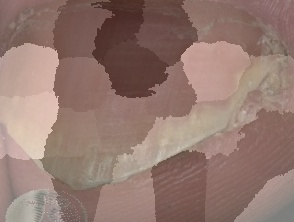Nail_psoriasis: (0, 15, 294, 216), (0, 0, 116, 62)
